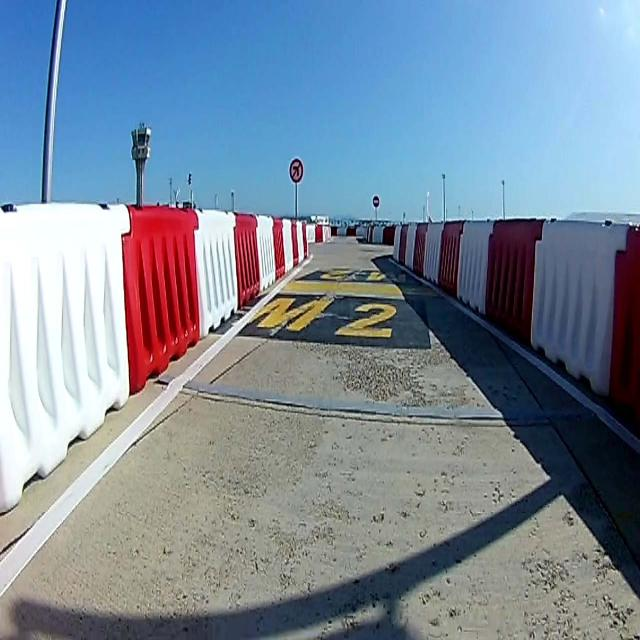soladonulmez: (288, 156, 304, 184)
